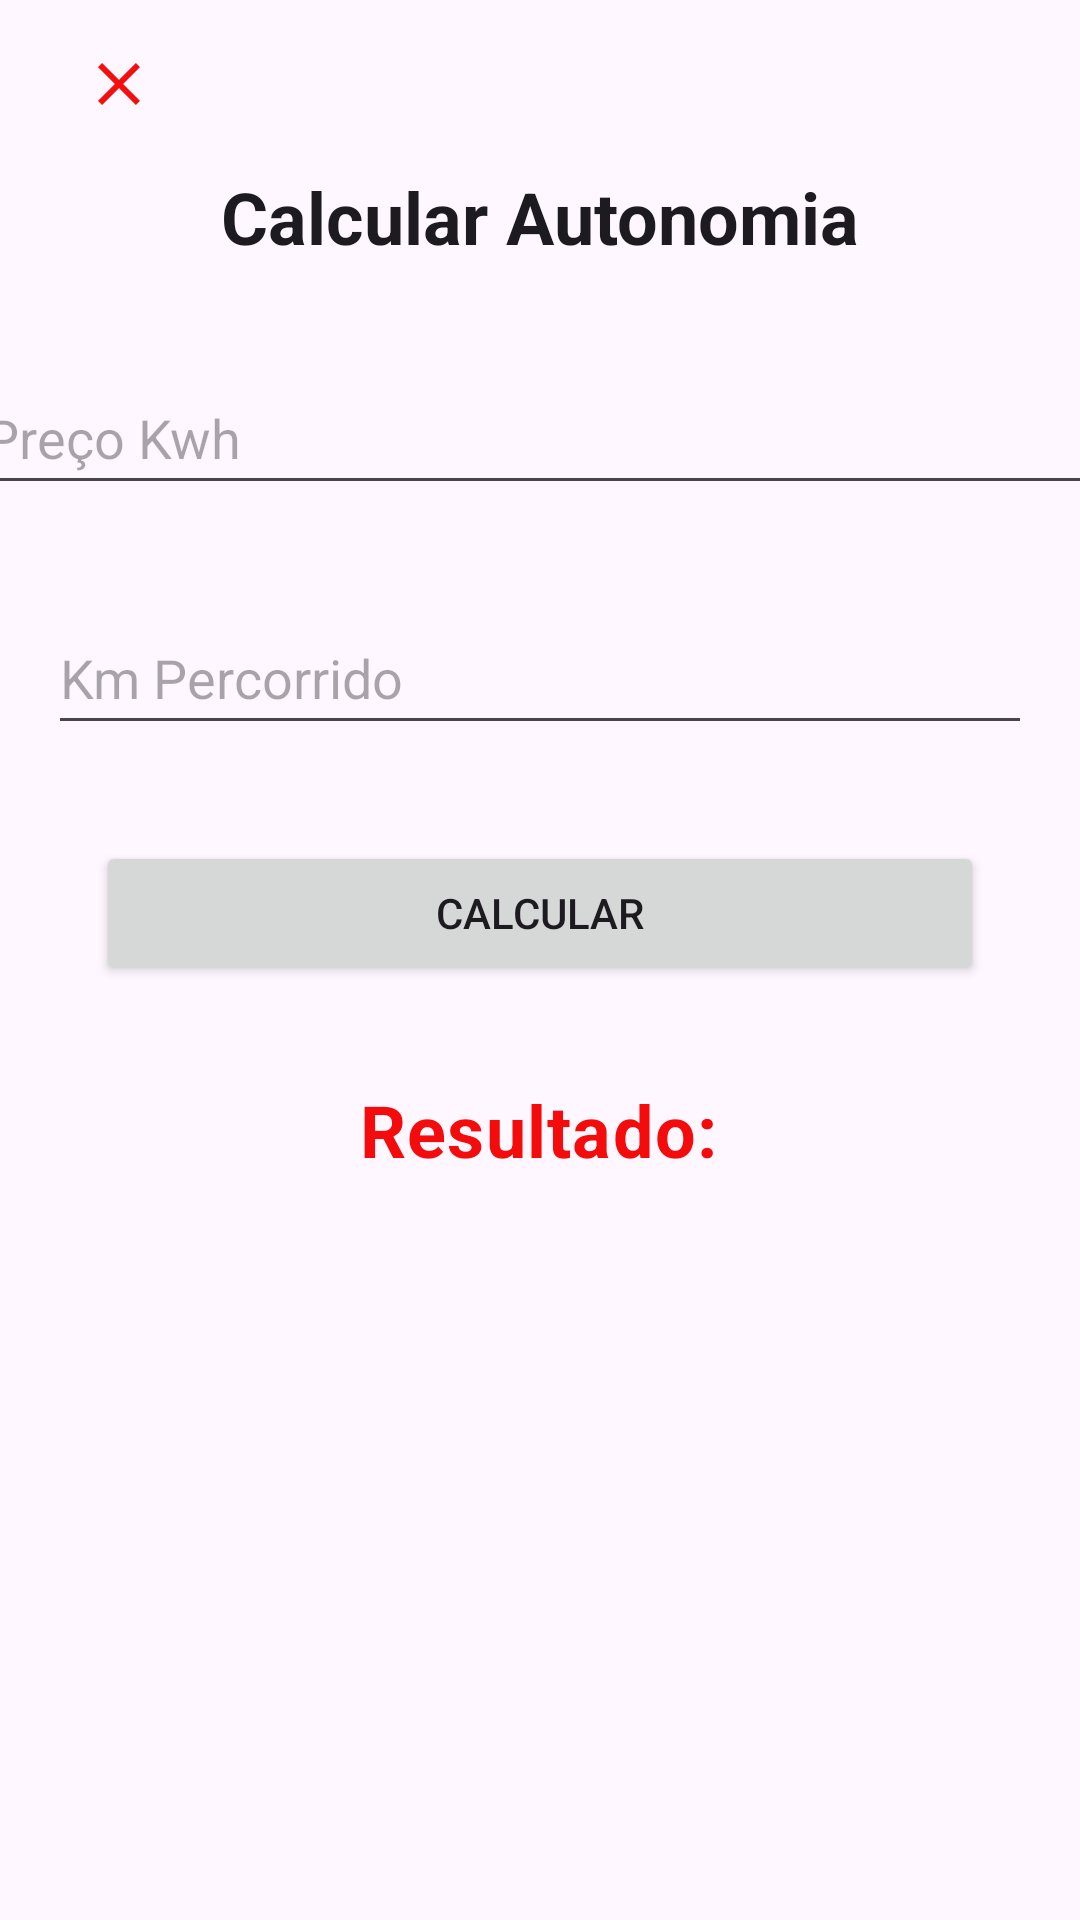

Where to tap for icons on this 1080px x 1920px app screen, as (x,y):
close: (119,84)
